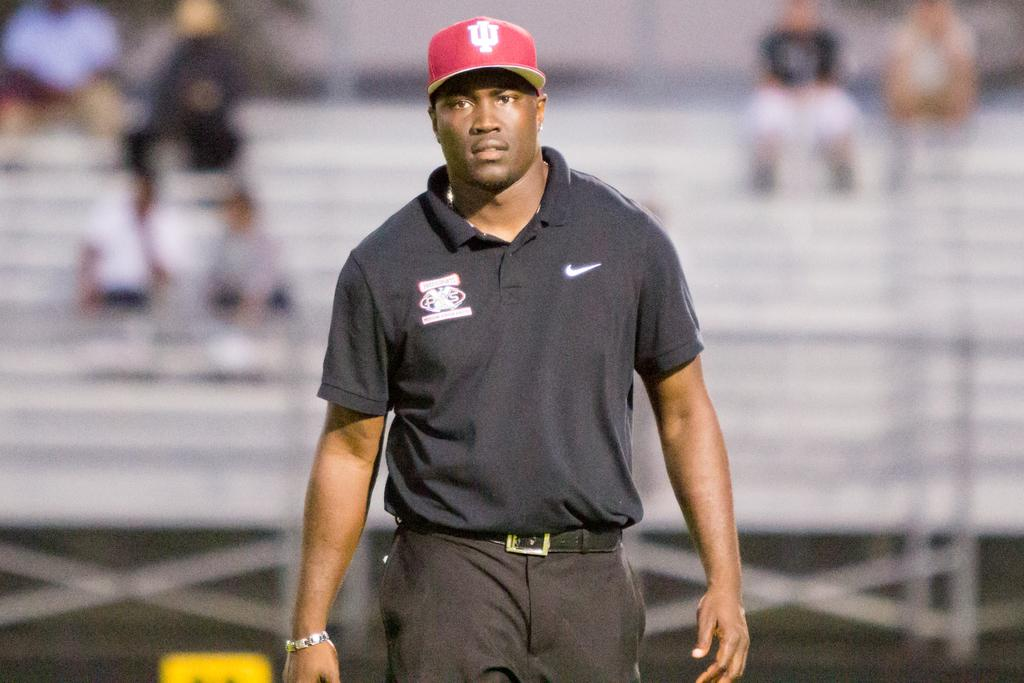Hat: (429, 15, 545, 96)
